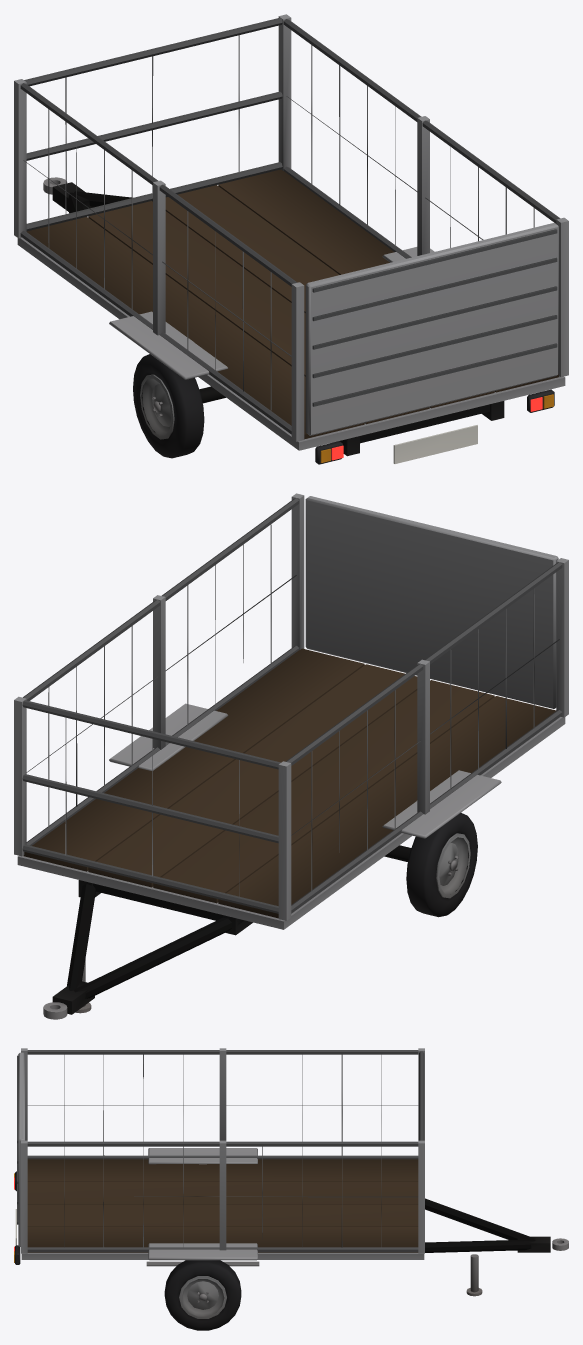
Rendered from farm_trailer_a.glb.
3 views of the same model, one above another, from view 1: azimuth 30°, elevation 25°; view 2: azimuth 150°, elevation 25°; view 3: azimuth 270°, elevation 25° (orthographic). The views are drawn at different scales.
Parts seen in each view (by area): view 1: farm_trailer_a_body, wheel_rl; view 2: farm_trailer_a_body, wheel_rl; view 3: farm_trailer_a_body, wheel_rr.
Boxes of the visible parts, <box> form: farm_trailer_a_body: <box>14,14,568,464</box>; wheel_rl: <box>133,354,204,458</box>; farm_trailer_a_body: <box>14,493,568,1019</box>; wheel_rl: <box>406,813,477,917</box>; farm_trailer_a_body: <box>14,1048,568,1296</box>; wheel_rr: <box>164,1260,241,1330</box>.
Size of what is drawn, in the model's own units: 1.98 by 1.54 by 4.19.
